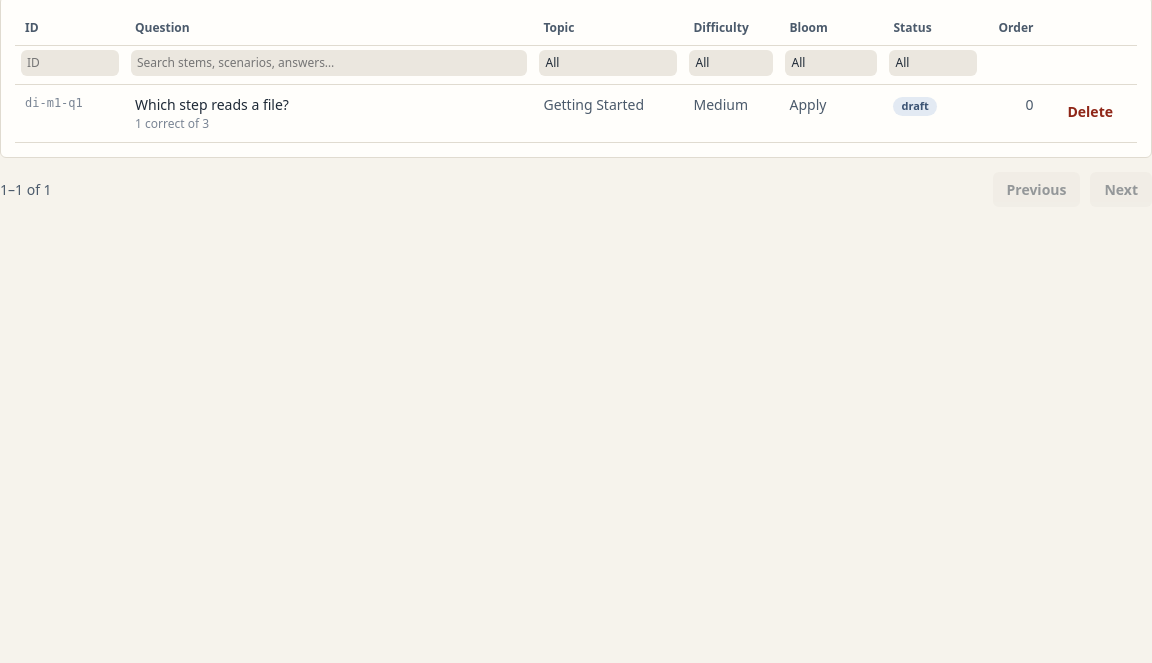
Test: moving a course question to another module › says the id changed, keeps the notice, and the next save uses the new id
The image size is (1152, 663).
Click the text "Which step reads a file?" at (329, 114), box [125,84,534,142]
(page scrolled)
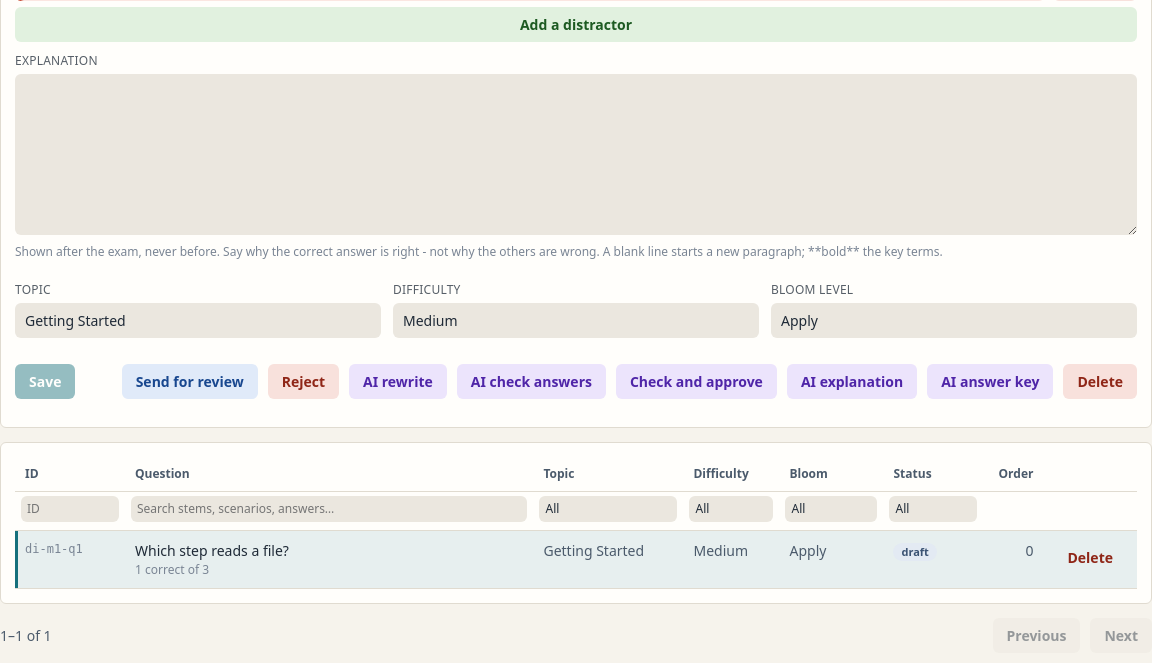
Replace the text in the field showing "Getting Started" with "Data Sources" at (198, 320), box [15,303,381,338]
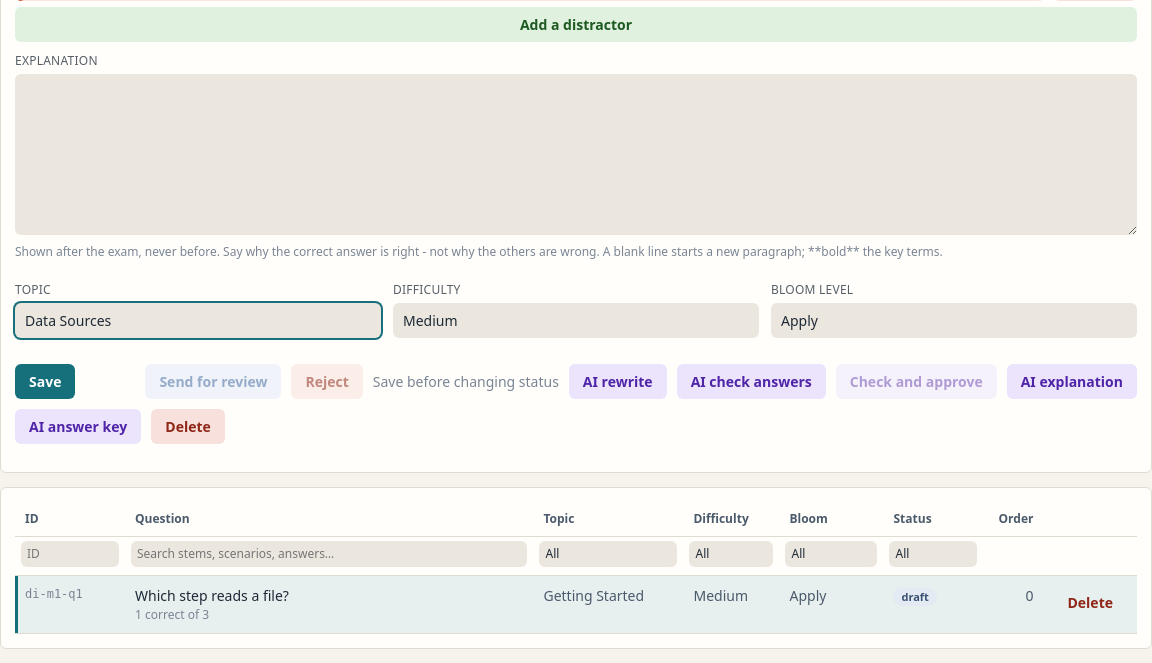
Click the button "Save" at (45, 381), box [15,364,75,399]
(page scrolled)
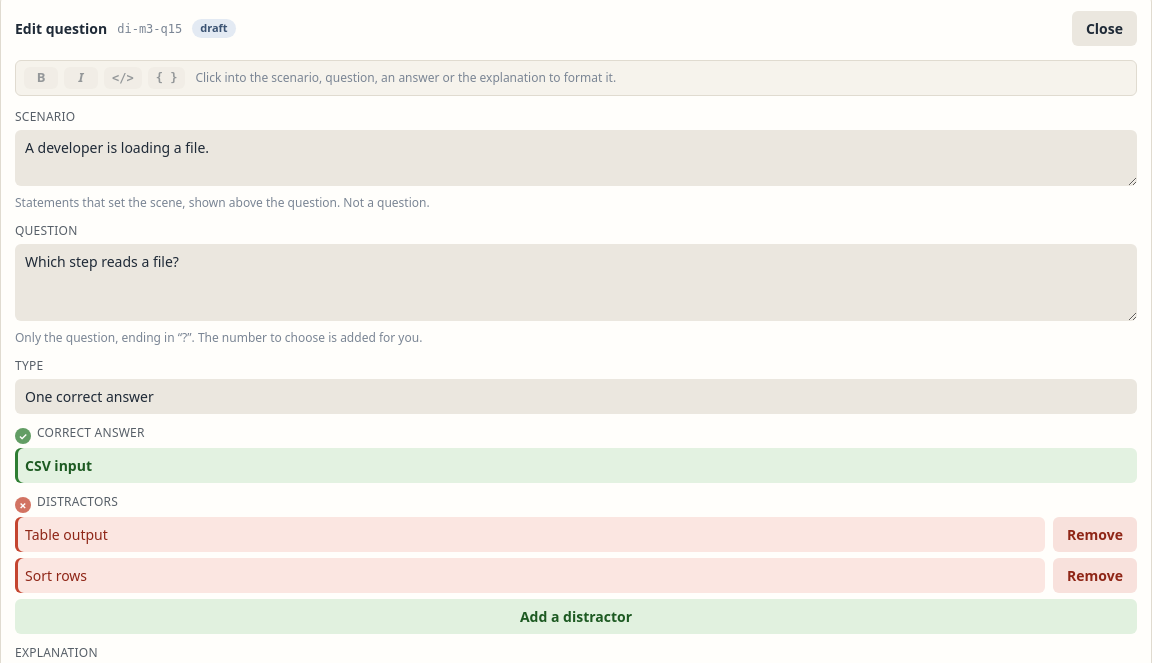
Type "!" into the text box showing "Which step reads a file?" at (576, 282), box [15,244,1137,321]
(page scrolled)
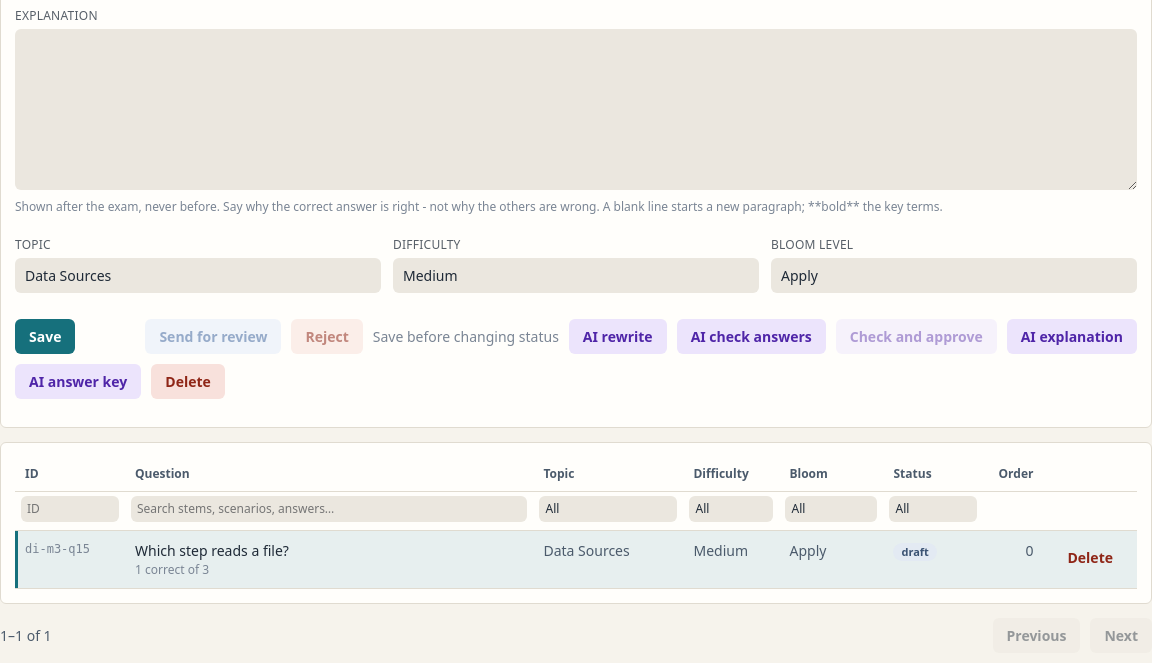
Click the button "Save" at (45, 336), box [15,319,75,354]
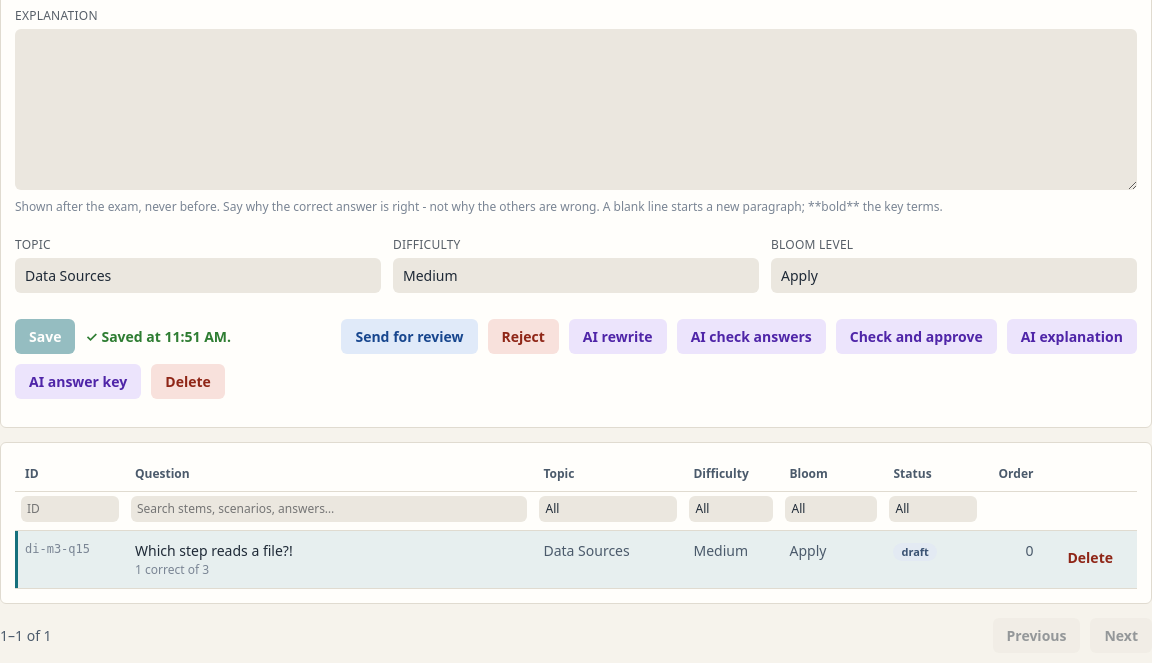
Result: the message "✓ Saved at 11:51 AM." is shown at [85,326,231,347]
